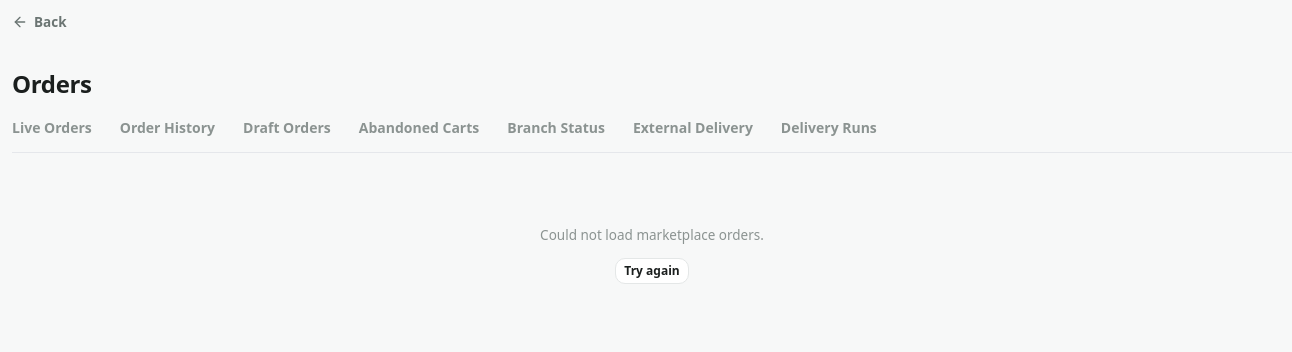
Test case: Marketplace orders desk › an availability failure ends in an error with Try again
The width and height of the screenshot is (1292, 352).
Expected: the text "Could not load marketplace orders." is shown, [540,225,764,246]
Click the button "Try again" at (652, 270), box [615,258,689,284]
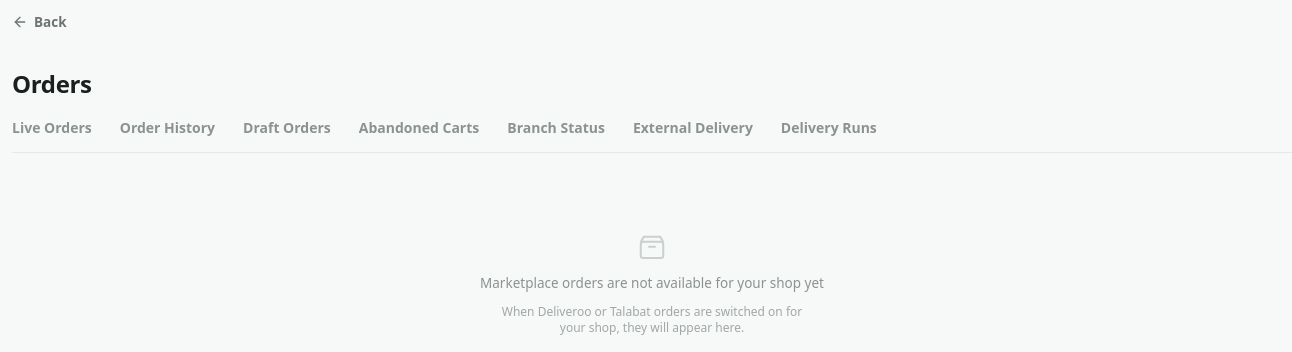
Expected: the text "Marketplace orders are not available for your shop yet" is shown, [480,273,824,294]
